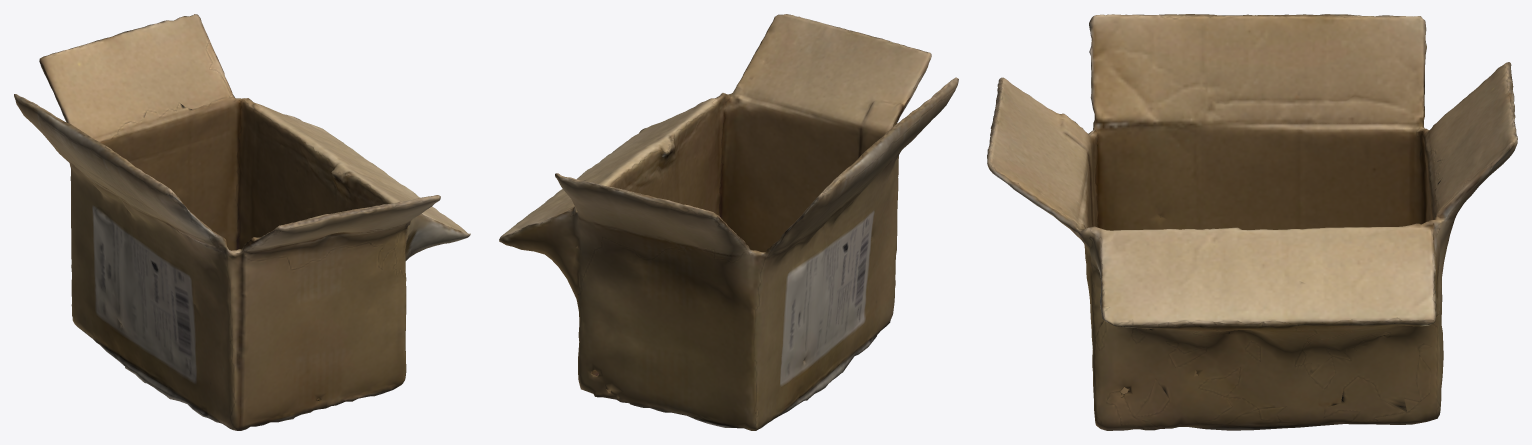
The model's file is source.glb.
The picture shows the model from 3 angles, left to right: view 1: azimuth 30°, elevation 25°; view 2: azimuth 150°, elevation 25°; view 3: azimuth 270°, elevation 25°; orthographic projection. The views are drawn at different scales.
Bounding box in the file's own units: 0.2993 × 0.2377 × 0.3805.
Materials: 1 (1 with a texture image).
